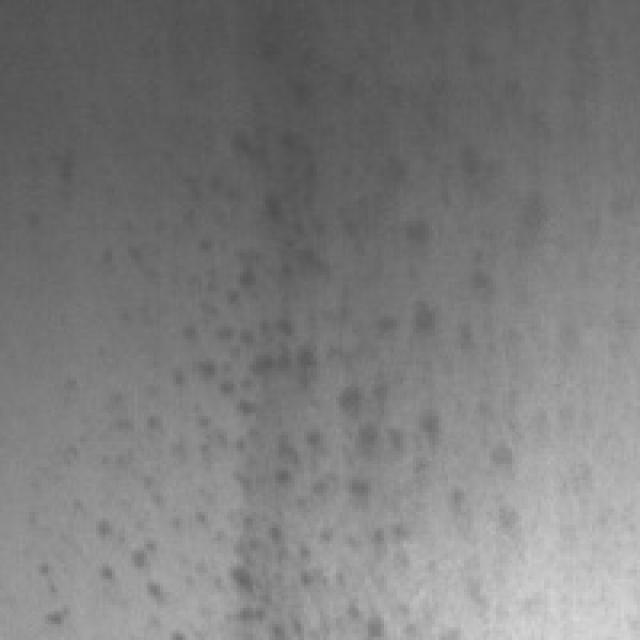pitted_surface: (42, 16, 534, 634)
